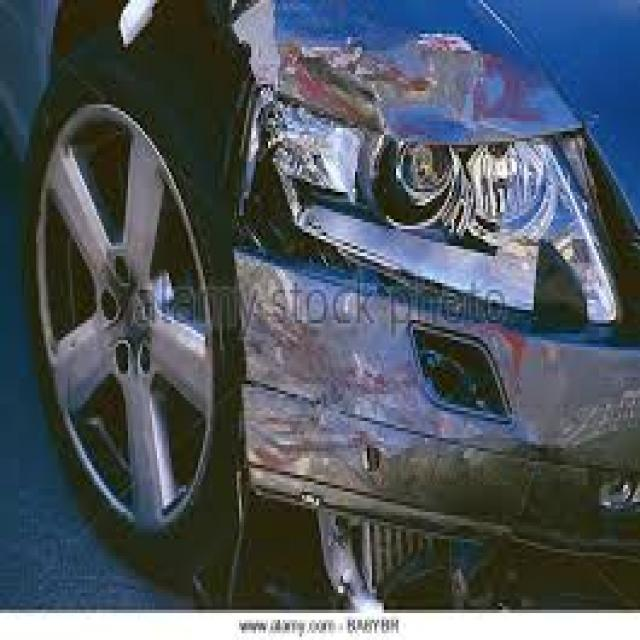moderate: (43, 4, 628, 582)
